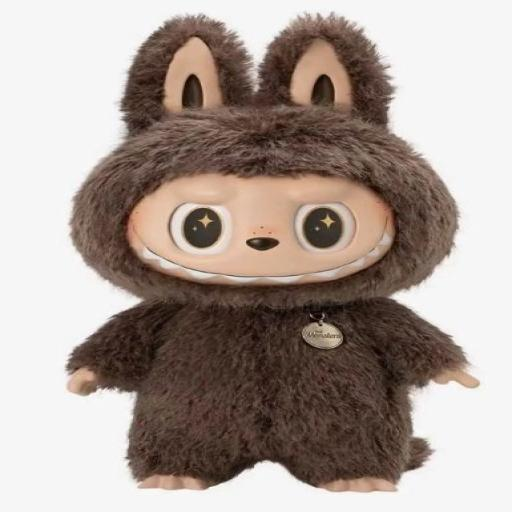labubu: (50, 5, 512, 499)
